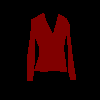maglia: (26, 12, 76, 81)
